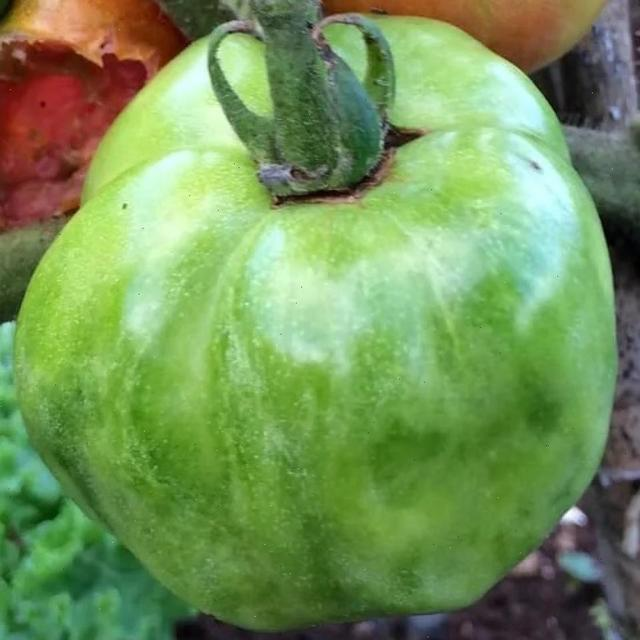Spotted wilt Virus Fruit: (10, 4, 412, 424)
